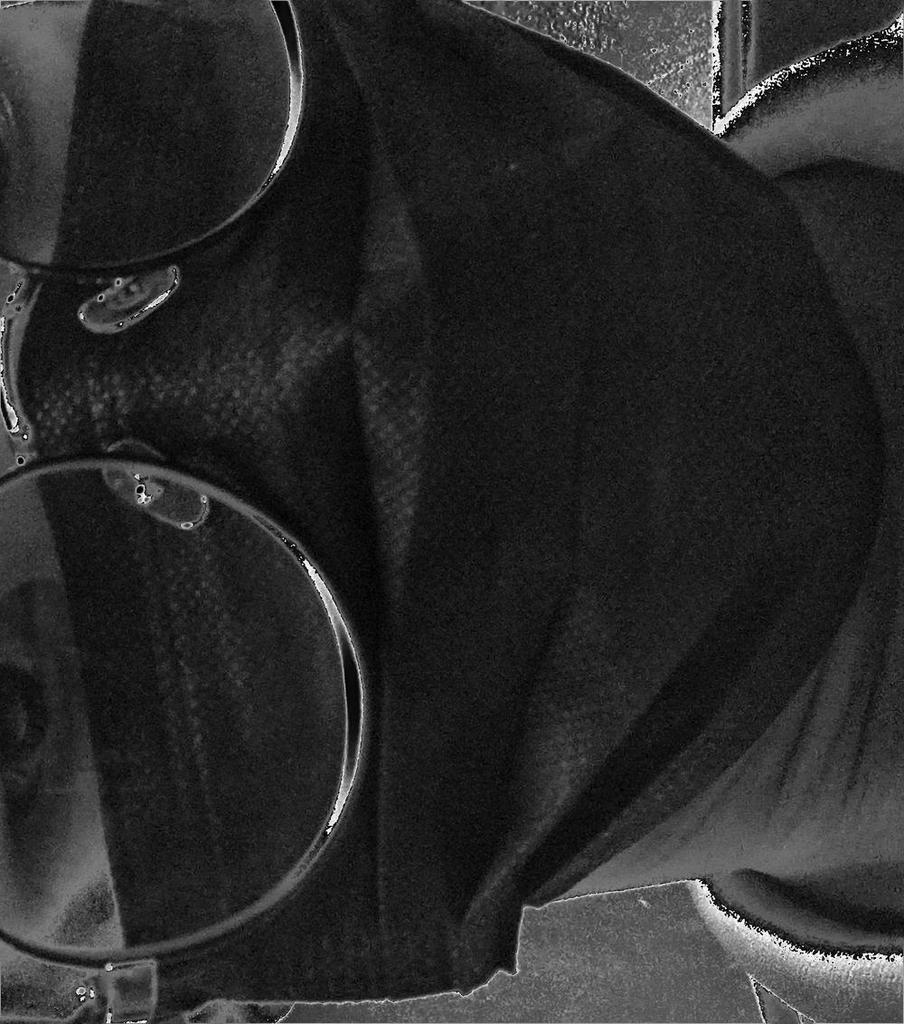Low GSM: (25, 1, 895, 1014)
